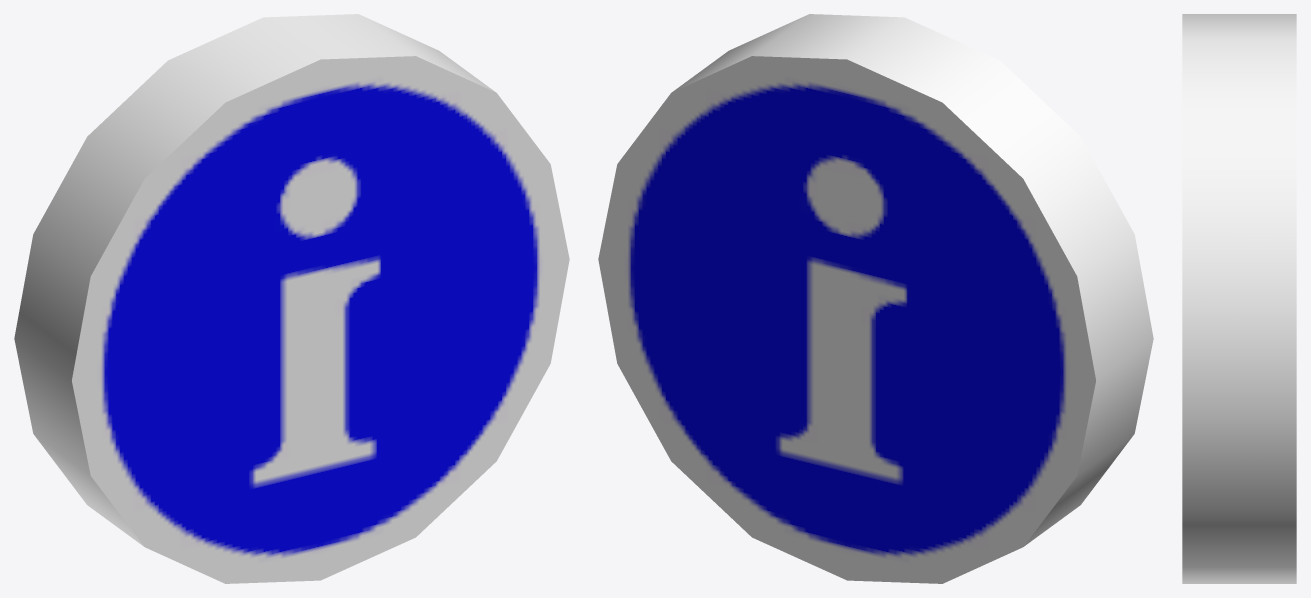
The model's file is info_disk.fbx.
3 renders of one model, left to right at view 1: azimuth 30°, elevation 25°; view 2: azimuth 150°, elevation 25°; view 3: azimuth 270°, elevation 25°, orthographic.
Visible parts, largest first — view 1: mesh_node; view 2: mesh_node; view 3: mesh_node.
Part boxes in pixels (<box>): mesh_node: <box>14,14,569,583</box>; mesh_node: <box>598,14,1153,583</box>; mesh_node: <box>1182,14,1296,583</box>.
Bounding box in the file's own units: 0.2 × 0.2 × 0.04.
